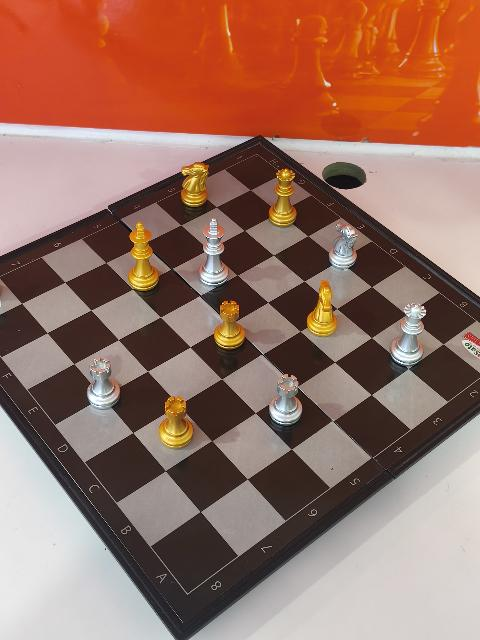black_king: (127, 222, 160, 293)
black_knight: (307, 281, 338, 338), (307, 282, 338, 338), (179, 162, 210, 211), (329, 220, 358, 270)
black_queen: (268, 168, 298, 229)
black_rook: (158, 396, 194, 453), (213, 301, 246, 352)
white_king: (199, 217, 227, 287)
white_queen: (390, 304, 427, 368)
white_rook: (269, 374, 303, 429), (87, 356, 120, 411)
